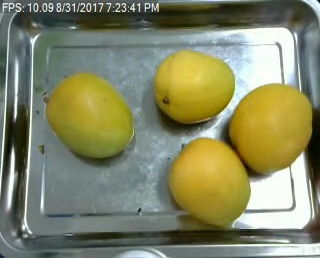Mango: (228, 82, 314, 173), (46, 73, 135, 158), (168, 138, 249, 221), (154, 48, 233, 124)
